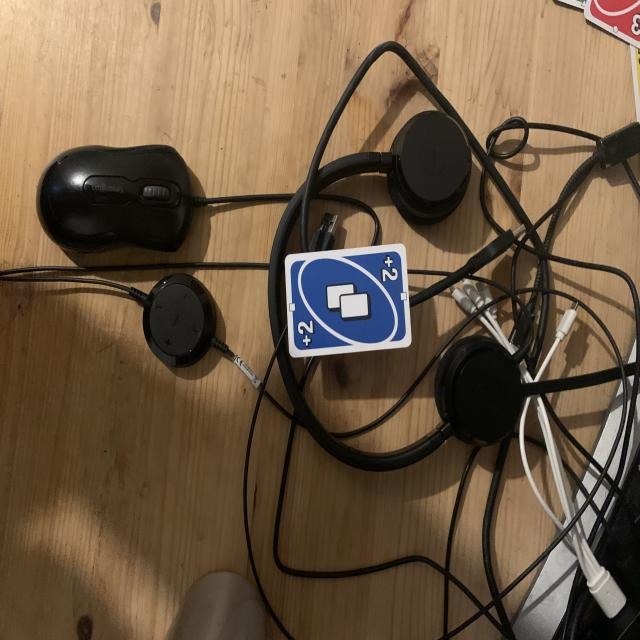lblue-20: (376, 254, 404, 295)
